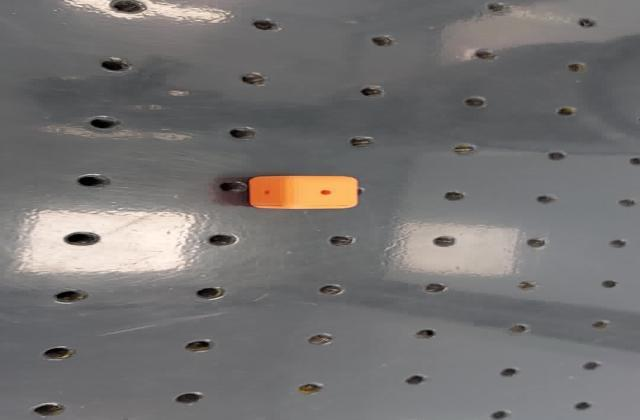cube: (240, 175, 364, 211)
